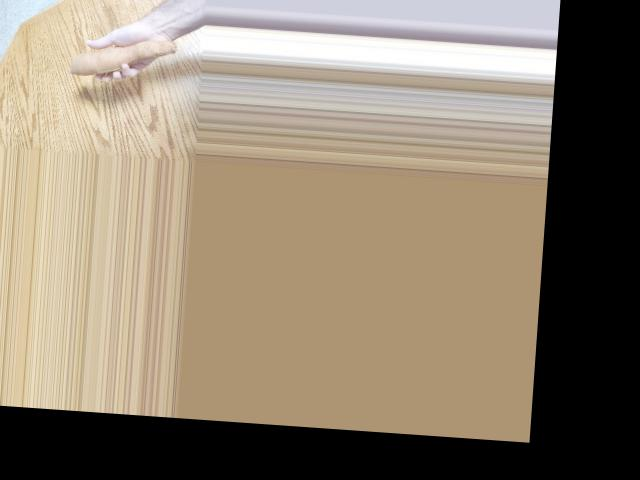sweet_potato: (68, 33, 188, 86)
